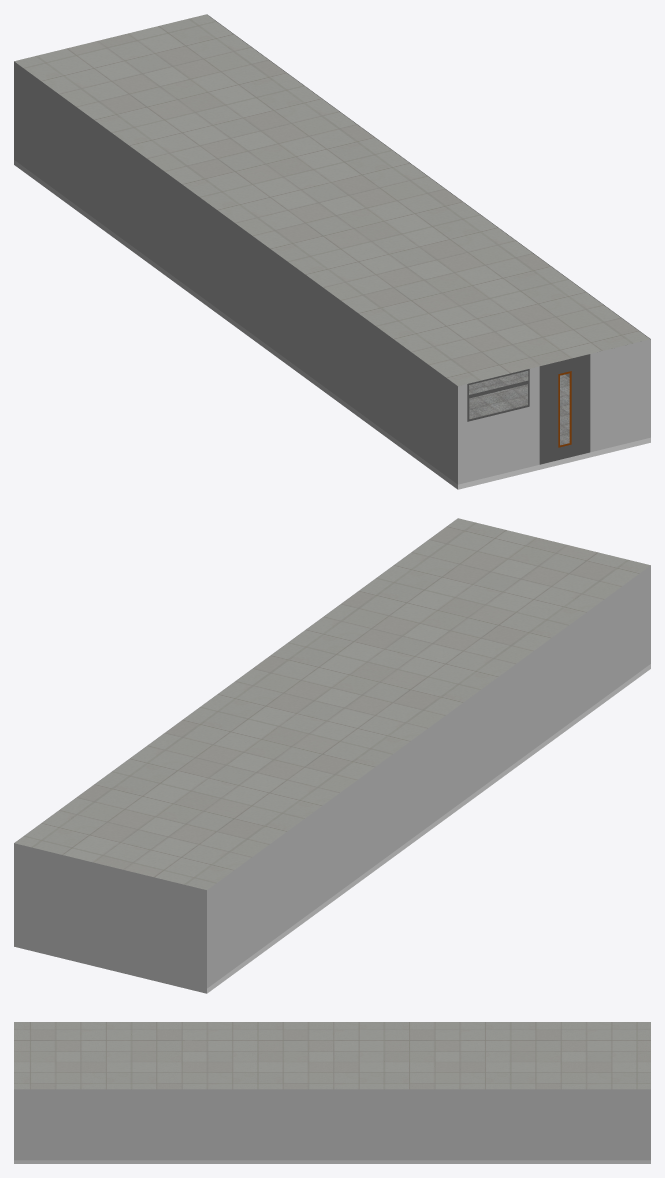
The model's file is aula nueva.fbx.
3 views of the same model, one above another, from view 1: azimuth 30°, elevation 25°; view 2: azimuth 150°, elevation 25°; view 3: azimuth 270°, elevation 25° (orthographic). The views are drawn at different scales.
Parts seen in each view (by area): view 1: techo, pared izquierda, pared de atras, Cube, piso; view 2: techo, pared izquierda, pared de adelante, Cube; view 3: pared derecha, techo, Cube, pared izquierda.
Boxes of the visible parts, <box> form: techo: <box>14,14,649,385</box>; pared izquierda: <box>14,61,457,484</box>; pared de atras: <box>458,339,650,484</box>; Cube: <box>14,160,650,489</box>; piso: <box>469,371,569,445</box>; techo: <box>15,518,650,889</box>; pared izquierda: <box>207,565,650,988</box>; pared de adelante: <box>14,843,206,988</box>; Cube: <box>14,664,650,993</box>; pared derecha: <box>14,1089,650,1160</box>; techo: <box>14,1022,650,1089</box>; Cube: <box>14,1160,650,1163</box>; pared izquierda: <box>14,1089,650,1089</box>.
Bounding box in the file's own units: 265 × 136 × 1055.
